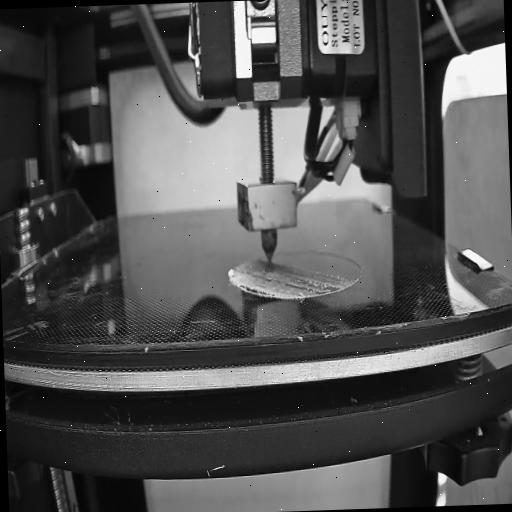under_extrusion: (286, 273, 342, 297), (239, 278, 275, 298)
